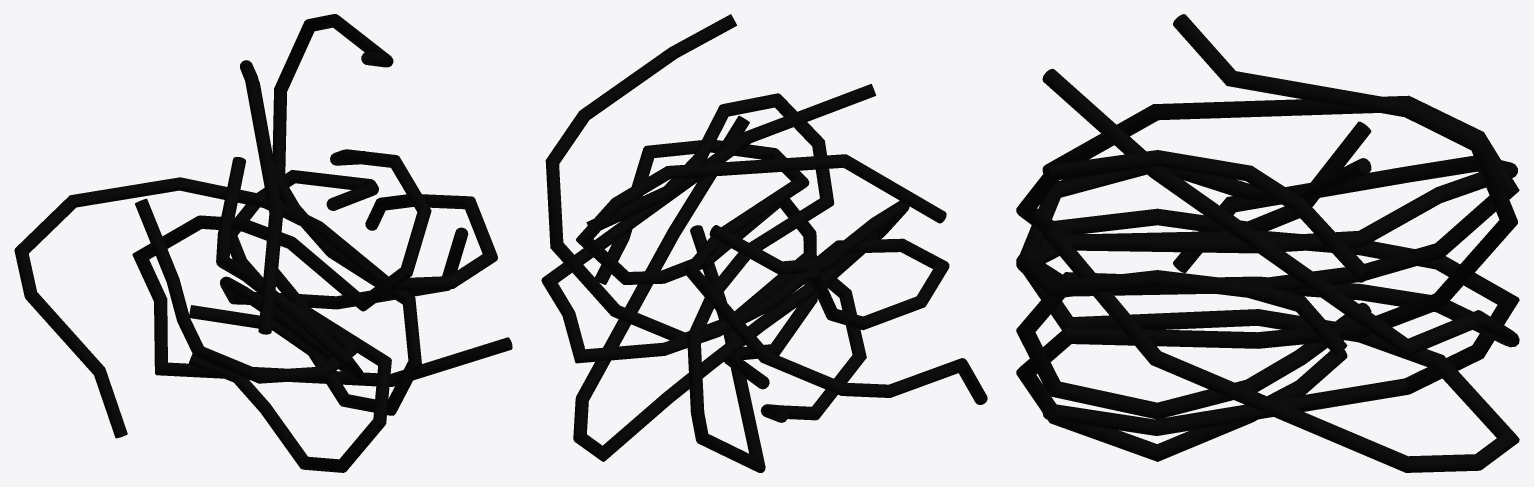
File: LevelInfection.FBX
The picture shows the model from 3 angles, left to right: view 1: azimuth 30°, elevation 25°; view 2: azimuth 150°, elevation 25°; view 3: azimuth 270°, elevation 25°; orthographic projection. The views are drawn at different scales.
Parts seen in each view (by area): view 1: Line004; view 2: Line004; view 3: Line004.
Boxes of the visible parts, x1,y1,x2,y2 form: Line004: (14,14,512,472); Line004: (541,14,987,472); Line004: (1016,14,1519,472).
Bounding box in the file's own units: 87.12 × 92.55 × 85.93.
Materials: 1 (1 with a texture image).
